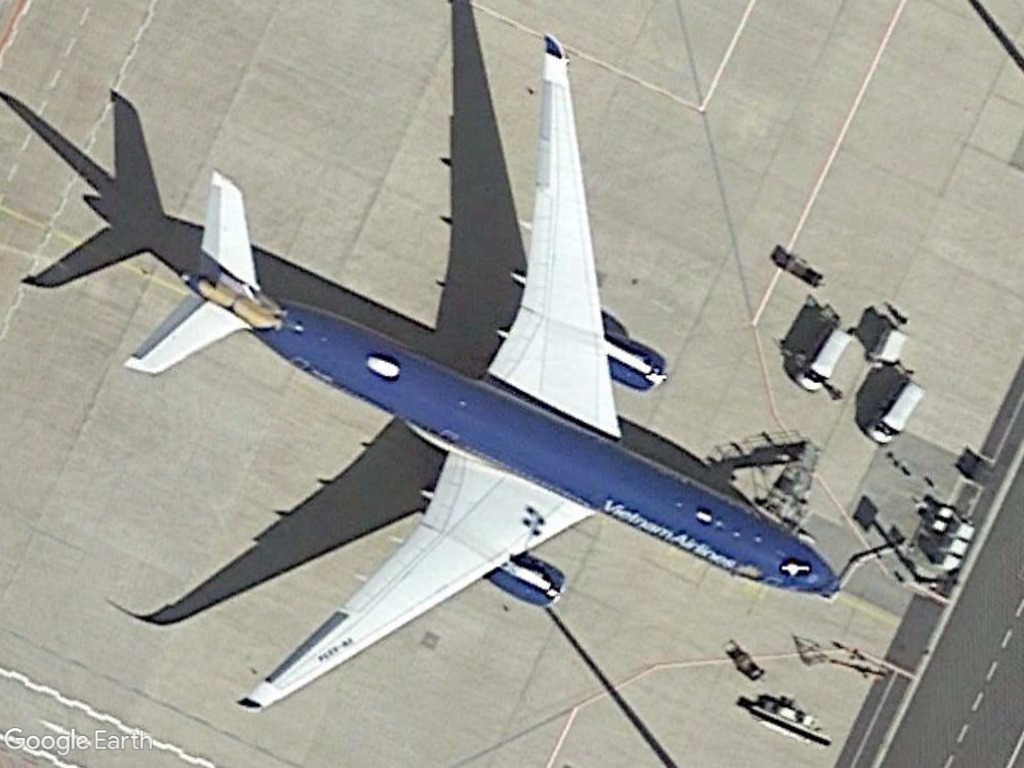airliner: (110, 24, 851, 718)
van: (788, 315, 859, 408), (855, 367, 932, 451)
